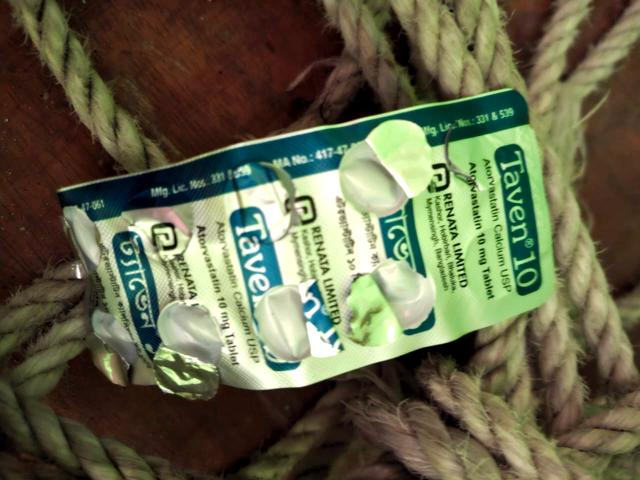medicine: (53, 84, 603, 410)
